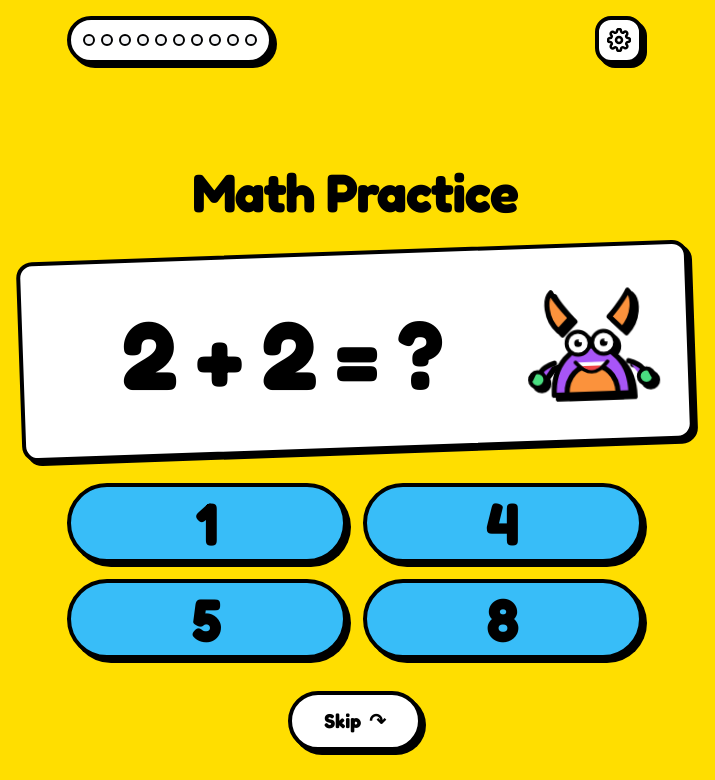
Home Page auto-advance › skipping loads a new problem and resets the streak
Click the button "4" at (503, 523), box x1=363 y1=483 x2=643 y2=563
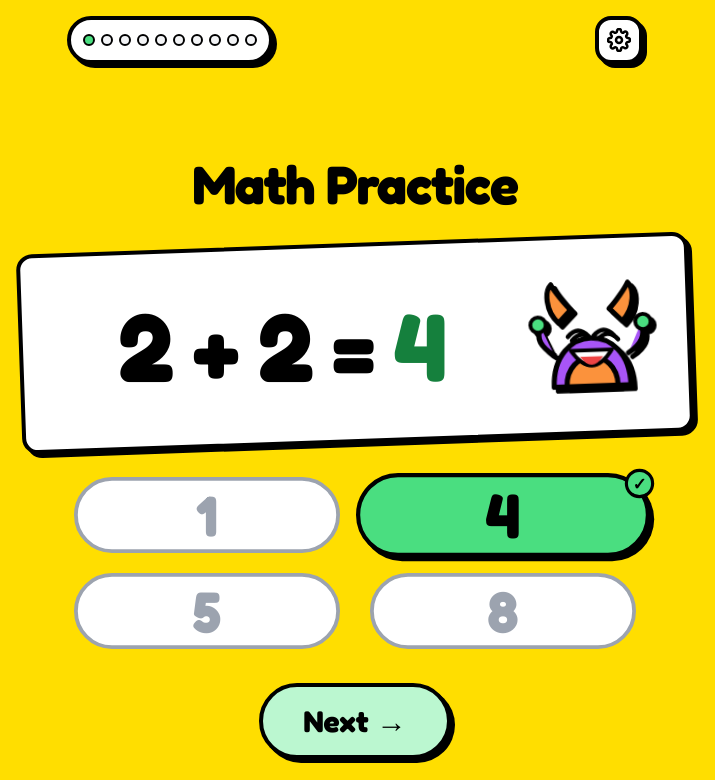
Click the button with test id "advance-button" at (355, 721), box x1=259 y1=683 x2=451 y2=759
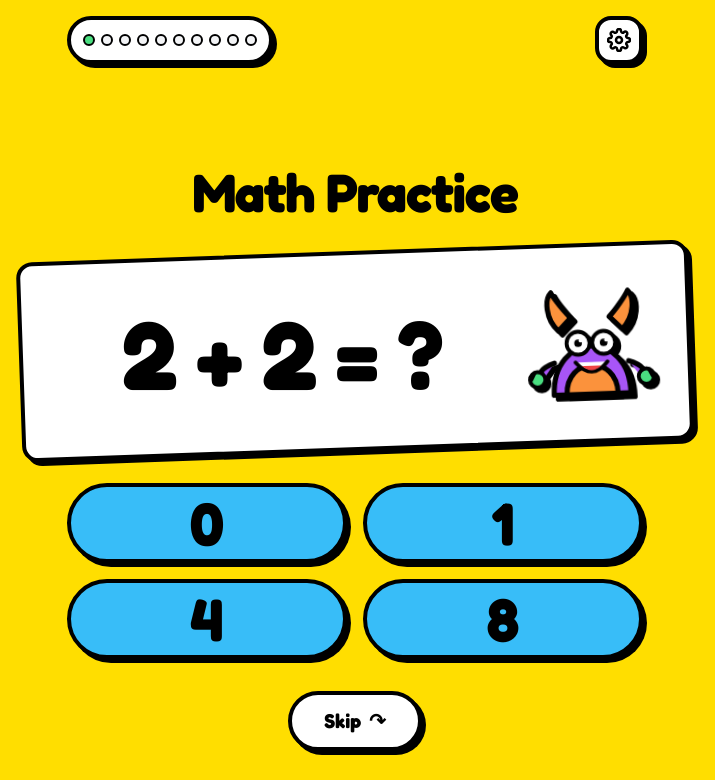
Click the button "4" at (207, 619), box x1=67 y1=579 x2=347 y2=659
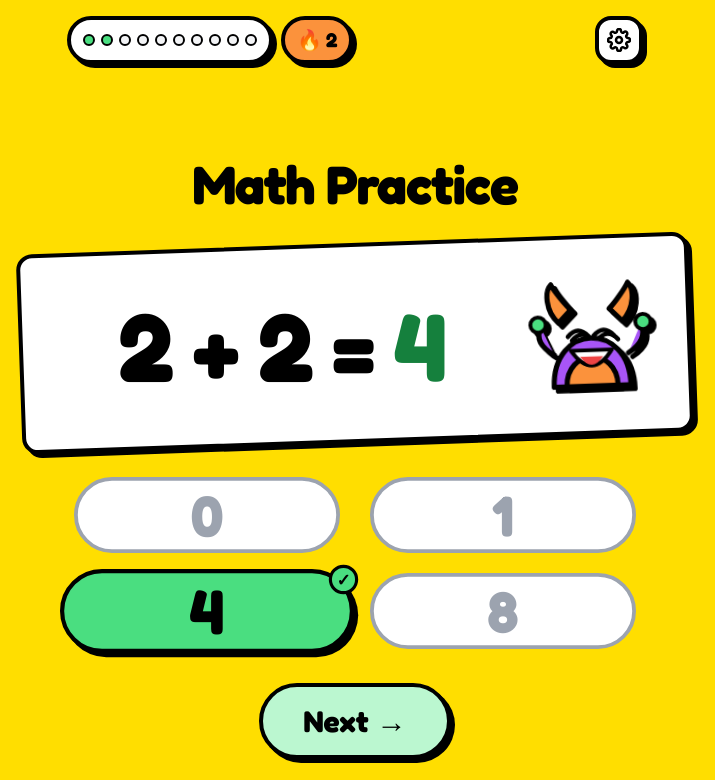
Expected: the picture with test id "streak-badge" shows "2", x1=326 y1=28 x2=337 y2=52
Click the button with test id "advance-button" at (355, 721), box x1=259 y1=683 x2=451 y2=759
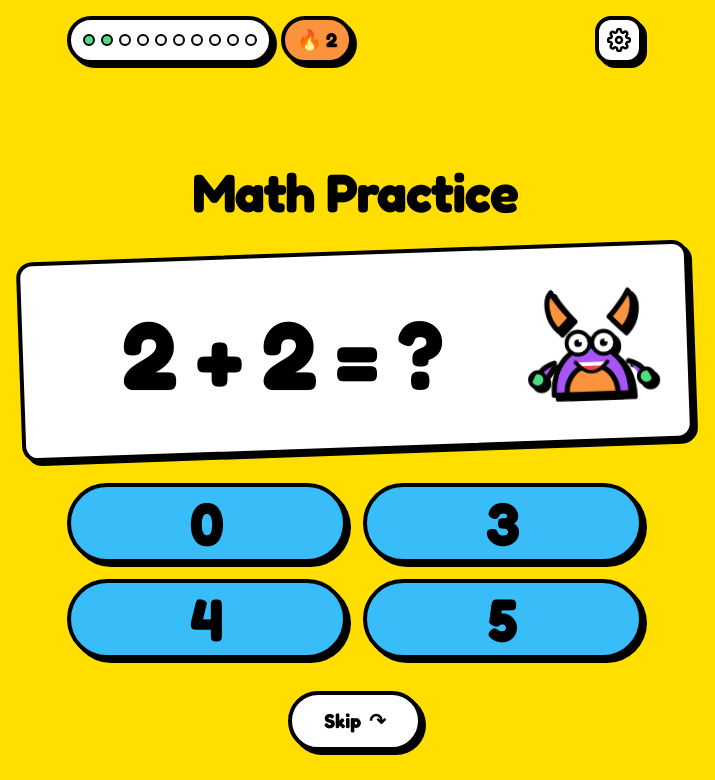
Click the button with test id "advance-button" at (355, 721), box x1=288 y1=691 x2=422 y2=751
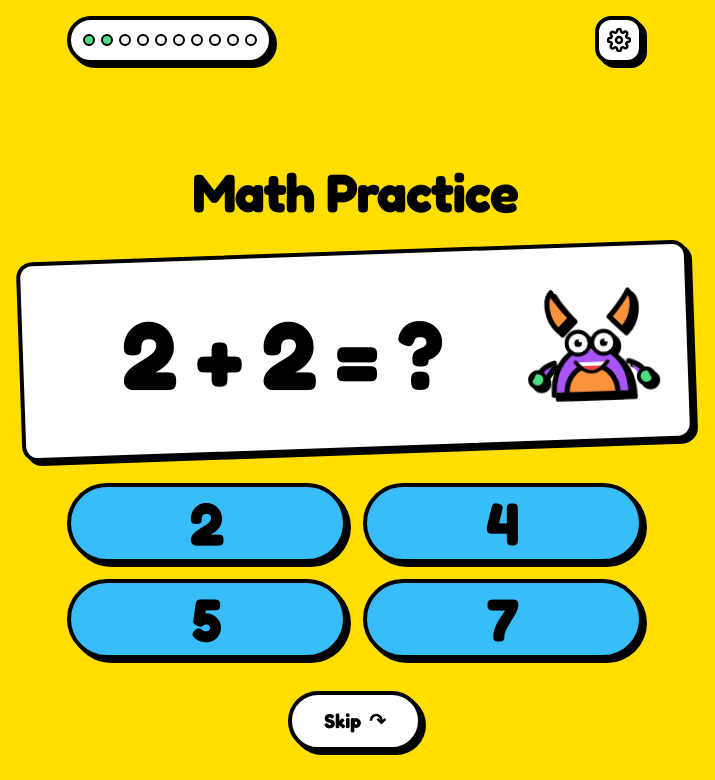
Expected: the button "4" is enabled, x1=363 y1=483 x2=643 y2=563
Expected: the picture with test id "streak-badge" is gone
